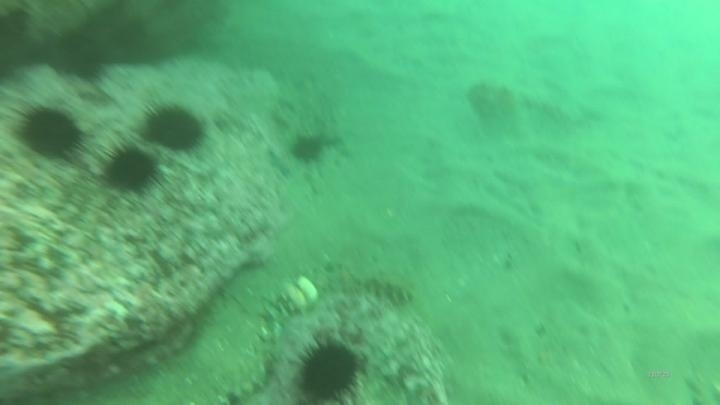echinus: (291, 334, 366, 404), (13, 101, 88, 163), (138, 100, 209, 155), (99, 141, 163, 196), (51, 29, 111, 84), (287, 131, 328, 167)
holothurian: (352, 270, 419, 308)
starfish: (323, 260, 364, 297), (265, 147, 295, 181)
